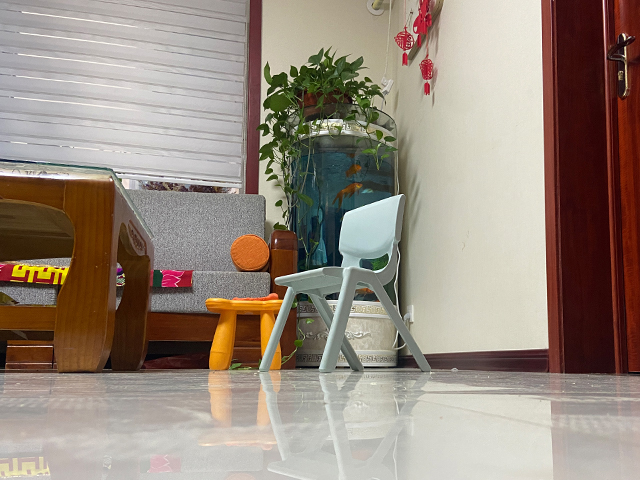sofa: (1, 186, 301, 372)
stool: (256, 192, 432, 374), (202, 296, 285, 372)
table: (1, 159, 158, 375)
